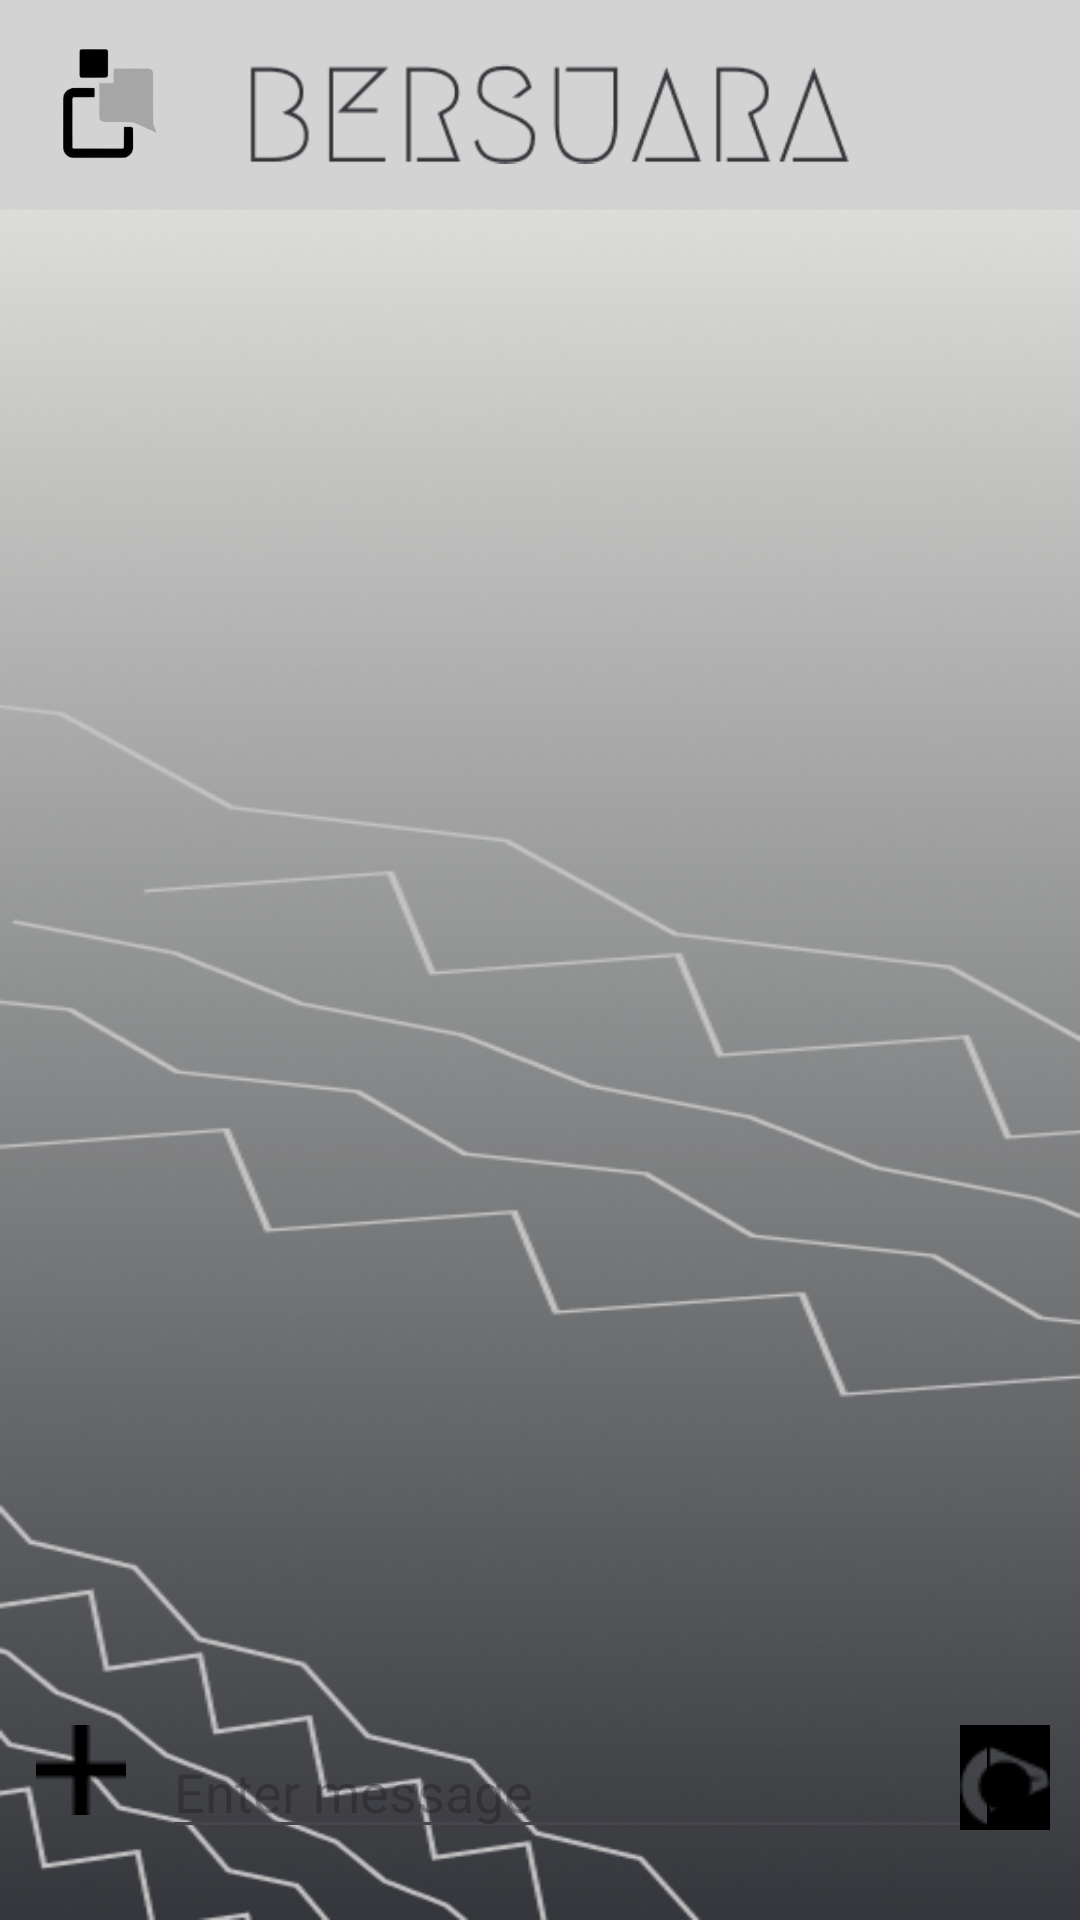

Icon click points for this 1080 x 1920 phone screenshot, format (x=x, y=y):
Add: (x=81, y=1770)
